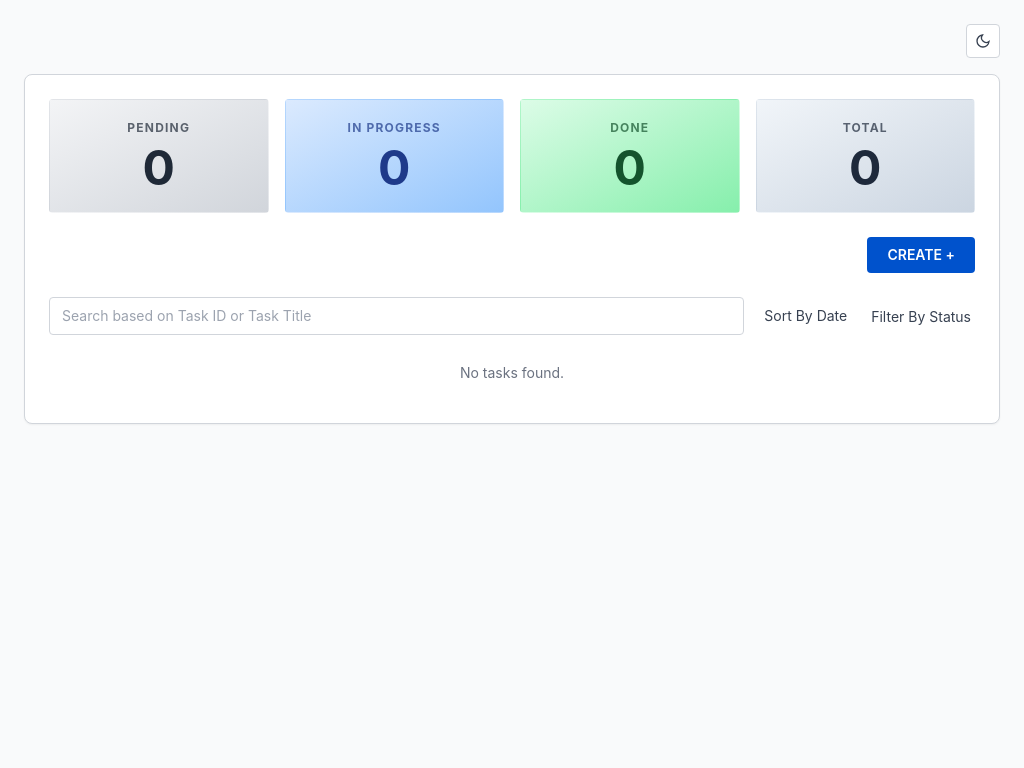
Test: Dashboard › opens the create modal when CREATE + is clicked
Click the button with aria-label "create a new task". click: point(921, 255)
box: [867, 237, 975, 273]
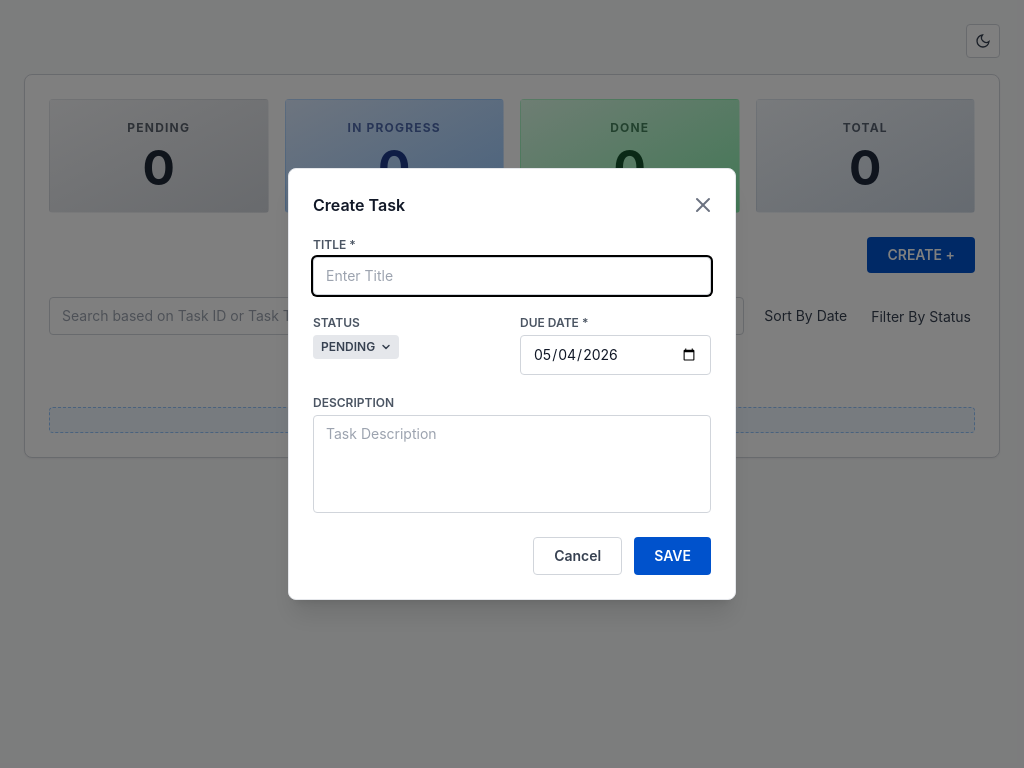
Result: the dialog is shown
Result: the heading "Create Task" is shown at [313, 193, 405, 217]
